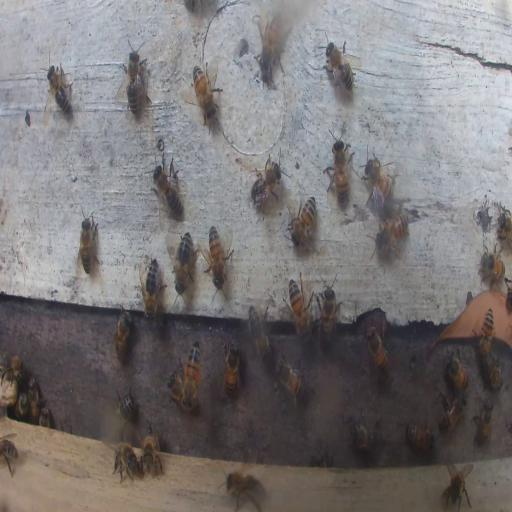nonpollenbee: (324, 123, 354, 204), (191, 60, 223, 126), (256, 6, 282, 81), (152, 156, 182, 219), (345, 408, 385, 455), (362, 156, 398, 208), (122, 40, 146, 118), (323, 39, 356, 95), (274, 355, 305, 413), (207, 223, 233, 289), (250, 160, 283, 210), (441, 460, 473, 511), (288, 274, 312, 339), (224, 470, 266, 507), (375, 211, 408, 258), (288, 195, 317, 247), (318, 274, 339, 345), (140, 256, 164, 318), (248, 302, 272, 364), (45, 64, 73, 116), (112, 440, 140, 486), (172, 230, 194, 288), (79, 214, 97, 276), (365, 324, 388, 372), (437, 393, 465, 432), (472, 400, 494, 449), (141, 428, 163, 476), (444, 352, 470, 392), (223, 341, 241, 398), (112, 310, 132, 360), (478, 248, 504, 284), (405, 422, 436, 452), (479, 305, 495, 360), (168, 368, 188, 408), (116, 388, 137, 424), (0, 436, 19, 474), (26, 375, 42, 420), (1, 354, 23, 386), (497, 208, 512, 248), (489, 354, 502, 390), (16, 387, 27, 417), (39, 407, 50, 426), (506, 286, 512, 313)
pollenbee: (182, 340, 202, 412)
